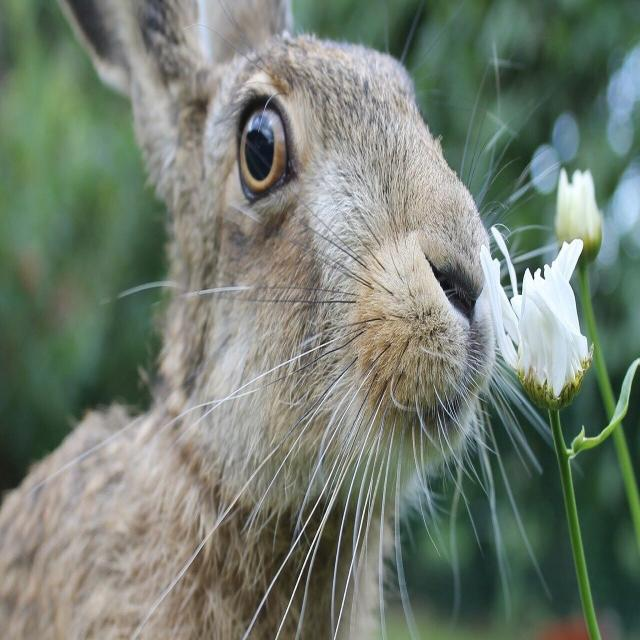Hare: (1, 2, 516, 632)
